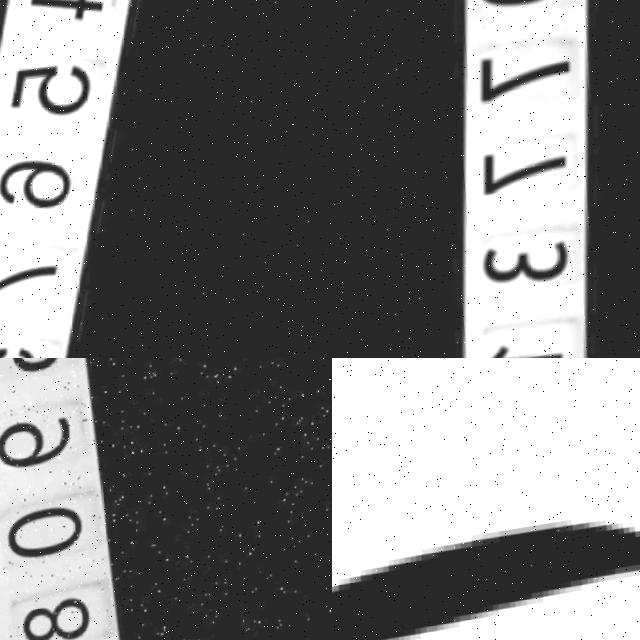0: (0, 492, 95, 572)
1: (476, 319, 570, 358)
3: (473, 223, 575, 301)
4: (6, 0, 125, 45)
5: (0, 42, 109, 140), (0, 325, 54, 358)
6: (0, 139, 88, 230), (0, 358, 74, 392)
7: (468, 35, 577, 119), (472, 133, 574, 208), (0, 229, 74, 324)
8: (7, 586, 102, 640)
9: (0, 403, 81, 481), (465, 0, 576, 22)
C: (332, 526, 640, 640)
